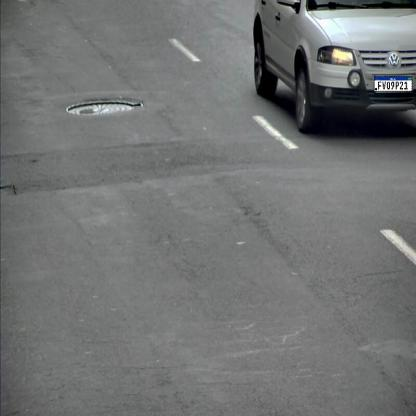PlacaM: (374, 76, 412, 92)
